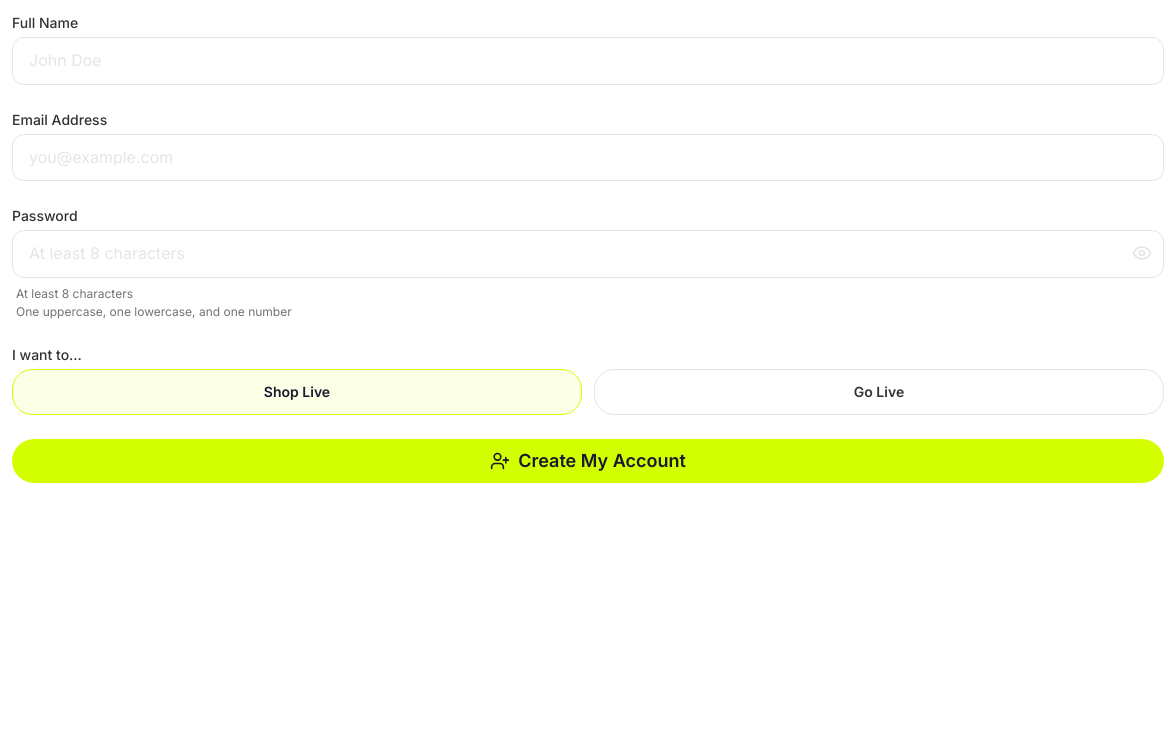
Test: SignUpForm › shows validation errors on empty submission
Click the button "Create My Account" at (588, 461), box [12,439,1164,483]
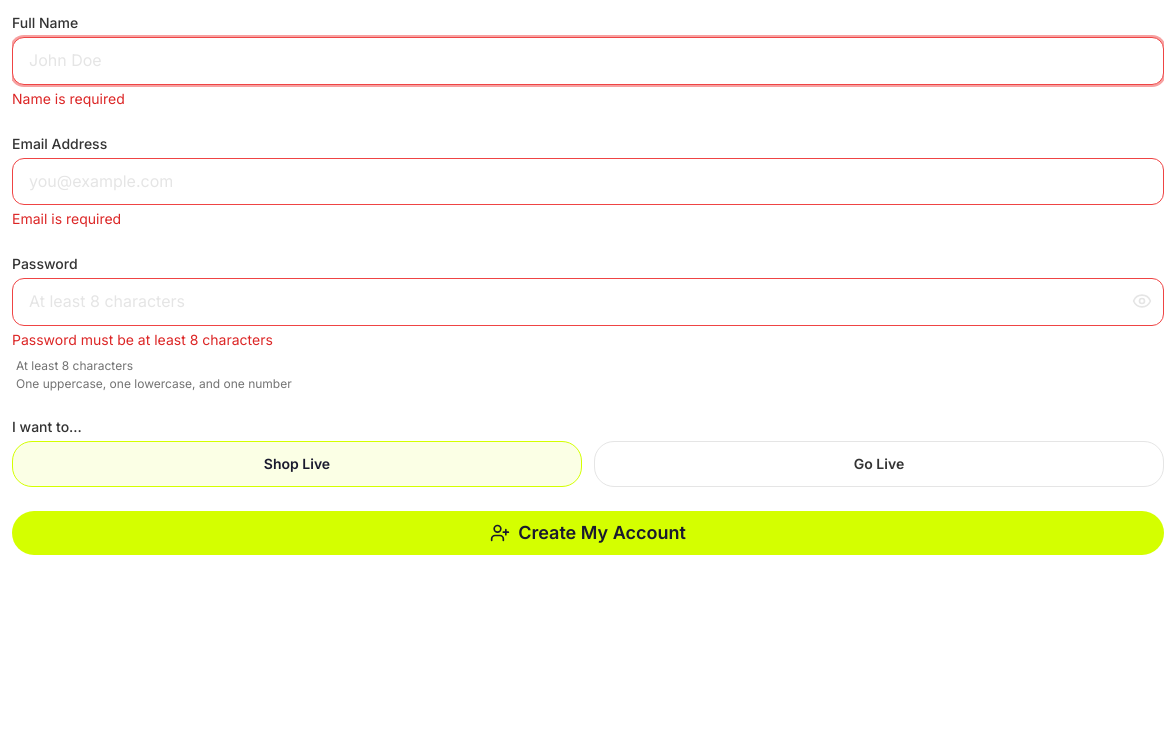
Expected: the message "Name is required" is shown, [12,90,125,107]
